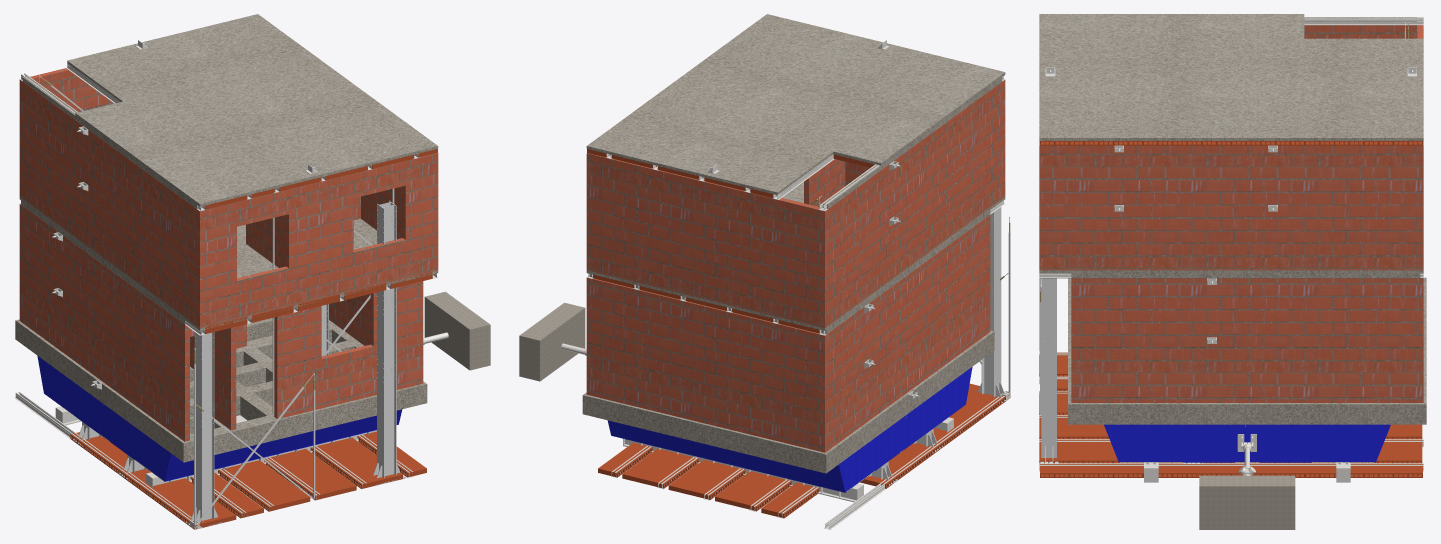
Rendered from casavibratoria.glb.
The picture shows the model from 3 angles, left to right: view 1: azimuth 30°, elevation 25°; view 2: azimuth 150°, elevation 25°; view 3: azimuth 270°, elevation 25°; orthographic projection. The views are drawn at different scales.
Visible parts, largest first — view 1: C-muros2, C-concreto losa2, C-muros1, C-cimentacion, C-mesa, bloquelonPlacaFacil_l - bloquelonPlacaFacil_l-1764672-_3D_.0 (×3), perfilI (×2), C-concreto losa1, bloquelonPlacaFacil_l - bloquelonPlacaFacil_l-1846863-_3D_, perfilI.001 (×2), Perfil placa fácil - 1_4mm - Perfil placa fácil - 1_4mm-1741, bloquelonPlacaFacil_44-5cm_l - bloquelonPlacaFacil_44-5cm_l- (+1 smaller); view 2: C-muros2, C-muros1, C-concreto losa2, C-mesa, C-cimentacion, bloquelonPlacaFacil_l - bloquelonPlacaFacil_l-1764672-_3D_.0 (×3), bloquelonPlacaFacil_l - bloquelonPlacaFacil_l-1846863-_3D_, C-concreto losa1, perfilI.001, Perfil placa fácil - 1_4mm - Perfil placa fácil - 1_4mm-1741, bloquelonPlacaFacil_44-5cm_l - bloquelonPlacaFacil_44-5cm_l-, bloquelonPlacaFacil_37-5cm_l - bloquelonPlacaFacil_37-5cm_l- (+1 smaller); view 3: C-muros2, C-concreto losa2, C-muros1, C-mesa, C-cimentacion, bloquelonPlacaFacil_l - bloquelonPlacaFacil_l-1764672-_3D_.0 (×2), bloquelonPlacaFacil_37-5cm_l - bloquelonPlacaFacil_37-5cm_l-, C-concreto losa1, C-bloquelonPlacaFacil_37-5cm_l - bloquelonPlacaFacil_37-5cm_, perfilI, perfilI.001, C-Perfil placa fácil - 1_4mm - Perfil placa fácil - 1_4mm-17 (+1 smaller).
Boxes of the visible parts, x1,y1,x2,y2 form: C-muros2: (19, 68, 438, 328); C-concreto losa2: (22, 14, 438, 208); C-muros1: (19, 204, 423, 441); C-cimentacion: (15, 318, 427, 462); C-mesa: (37, 291, 490, 487); bloquelonPlacaFacil_l - bloquelonPlacaFacil_l-1764672-_3D_.0 (×3): (218, 437, 402, 511); perfilI (×2): (198, 203, 396, 522); C-concreto losa1: (19, 197, 438, 330); bloquelonPlacaFacil_l - bloquelonPlacaFacil_l-1846863-_3D_: (70, 432, 236, 529); perfilI.001 (×2): (194, 200, 392, 515); Perfil placa fácil - 1_4mm - Perfil placa fácil - 1_4mm-1741: (14, 392, 196, 523); bloquelonPlacaFacil_44-5cm_l - bloquelonPlacaFacil_44-5cm_l-: (190, 472, 263, 518); C-muros2: (586, 80, 1005, 328); C-muros1: (586, 215, 990, 452); C-concreto losa2: (586, 14, 1005, 208); C-mesa: (519, 302, 972, 502); C-cimentacion: (582, 330, 994, 473); bloquelonPlacaFacil_l - bloquelonPlacaFacil_l-1764672-_3D_.0 (×3): (622, 448, 791, 511); bloquelonPlacaFacil_l - bloquelonPlacaFacil_l-1846863-_3D_: (860, 383, 1009, 488); C-concreto losa1: (586, 182, 1005, 334); perfilI.001: (981, 209, 997, 397); Perfil placa fácil - 1_4mm - Perfil placa fácil - 1_4mm-1741: (824, 393, 1007, 529); bloquelonPlacaFacil_44-5cm_l - bloquelonPlacaFacil_44-5cm_l-: (761, 482, 819, 518); bloquelonPlacaFacil_37-5cm_l - bloquelonPlacaFacil_37-5cm_l-: (598, 442, 652, 477); C-muros2: (1039, 25, 1423, 270); C-concreto losa2: (1039, 14, 1423, 140); C-muros1: (1071, 278, 1423, 402); C-mesa: (1104, 424, 1390, 529); C-cimentacion: (1068, 277, 1426, 424); bloquelonPlacaFacil_l - bloquelonPlacaFacil_l-1764672-_3D_.0 (×2): (1039, 415, 1422, 463); bloquelonPlacaFacil_37-5cm_l - bloquelonPlacaFacil_37-5cm_l-: (1040, 464, 1422, 477); C-concreto losa1: (1039, 270, 1423, 277); C-bloquelonPlacaFacil_37-5cm_l - bloquelonPlacaFacil_37-5cm_: (1040, 141, 1422, 145); perfilI: (1041, 278, 1049, 457); perfilI.001: (1049, 278, 1056, 457); C-Perfil placa fácil - 1_4mm - Perfil placa fácil - 1_4mm-17: (1304, 17, 1423, 25).
Size of the model in its own units: 7.25 by 6.07 by 6.05.
Materials: 7 (6 with a texture image).
